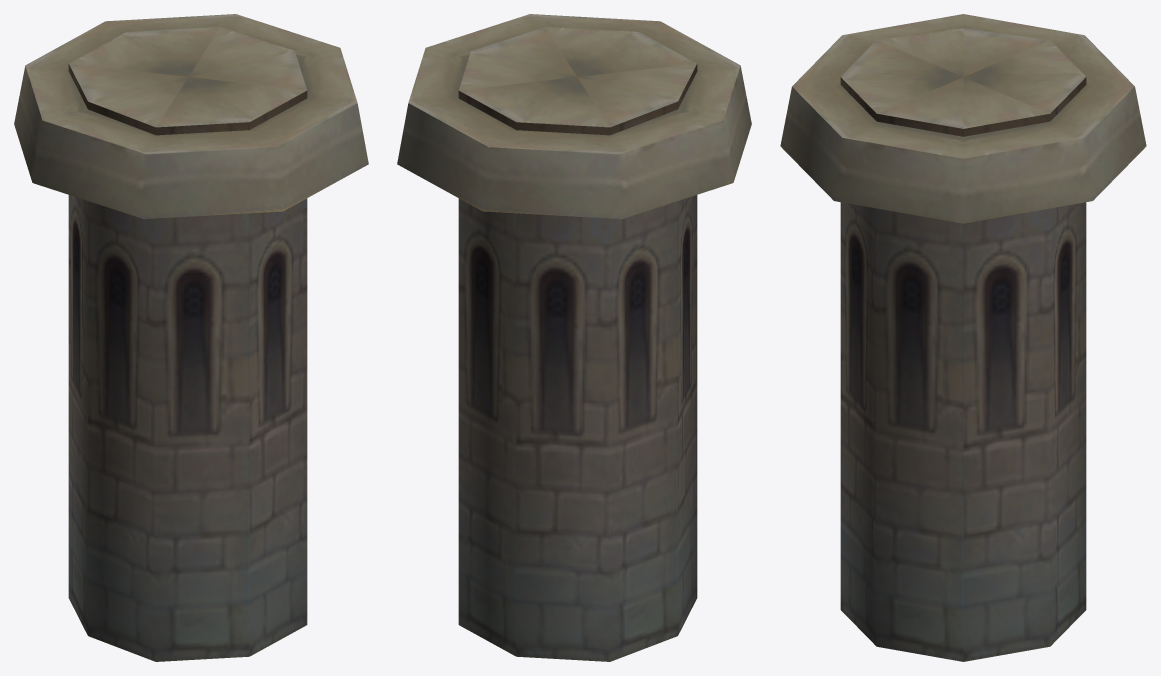
File: zc_xiaoxpt.FBX
3 renders of one model, left to right at view 1: azimuth 30°, elevation 25°; view 2: azimuth 150°, elevation 25°; view 3: azimuth 270°, elevation 25°, orthographic.
Visible parts, largest first — view 1: zc_xiaoxpt; view 2: zc_xiaoxpt; view 3: zc_xiaoxpt.
Part boxes in pixels (<box>): zc_xiaoxpt: <box>14,14,368,661</box>; zc_xiaoxpt: <box>397,14,751,661</box>; zc_xiaoxpt: <box>780,14,1146,661</box>.
Size of the model in its own units: 1065 by 1710 by 1065.
